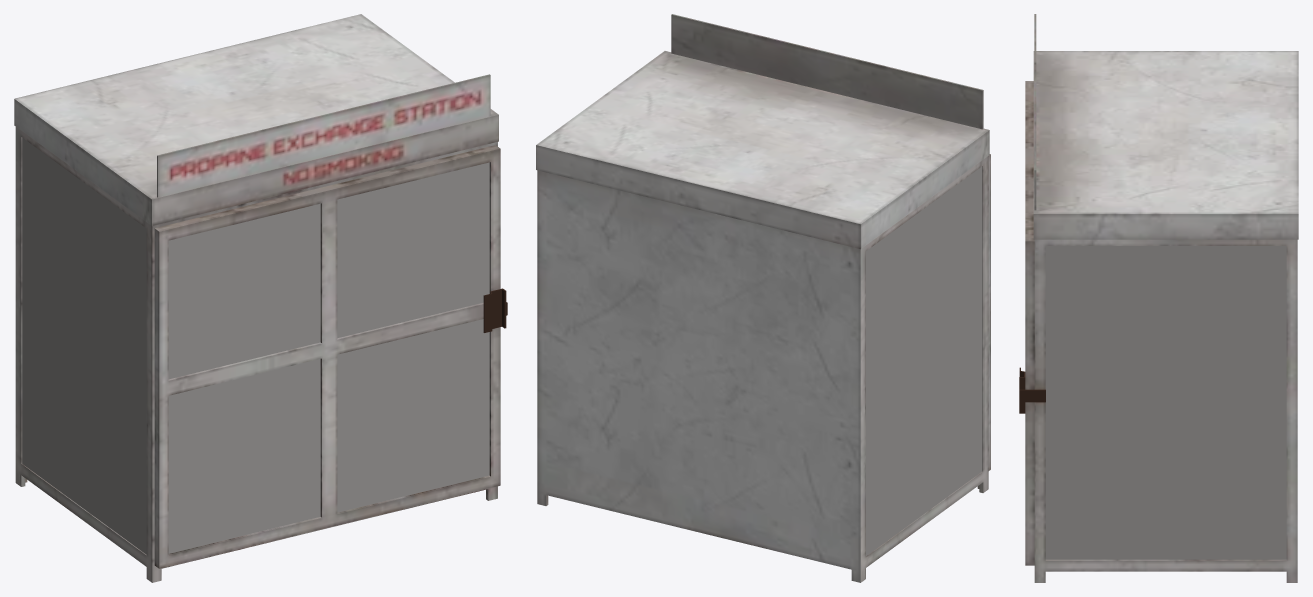
The model's file is propane-cage.lod0.glb.
The picture shows the model from 3 angles, left to right: view 1: azimuth 30°, elevation 25°; view 2: azimuth 150°, elevation 25°; view 3: azimuth 270°, elevation 25°; orthographic projection. The views are drawn at different scales.
Visible parts, largest first — view 1: pCube19_Mesh_0, pCube11_CageWhite_0; view 2: pCube11_CageWhite_0, pCube19_Mesh_0; view 3: pCube19_Mesh_0, pCube11_CageWhite_0.
Boxes of the visible parts, left/top/right/bottom form: pCube19_Mesh_0: left=22, top=138, right=507, bottom=554; pCube11_CageWhite_0: left=14, top=14, right=500, bottom=582; pCube11_CageWhite_0: left=536, top=14, right=990, bottom=582; pCube19_Mesh_0: left=866, top=166, right=982, bottom=556; pCube19_Mesh_0: left=1019, top=246, right=1286, bottom=559; pCube11_CageWhite_0: left=1025, top=14, right=1298, bottom=582.
Size of the model in its own units: 1.54 by 1.8 by 1.11.
2 materials, 1 textured.
